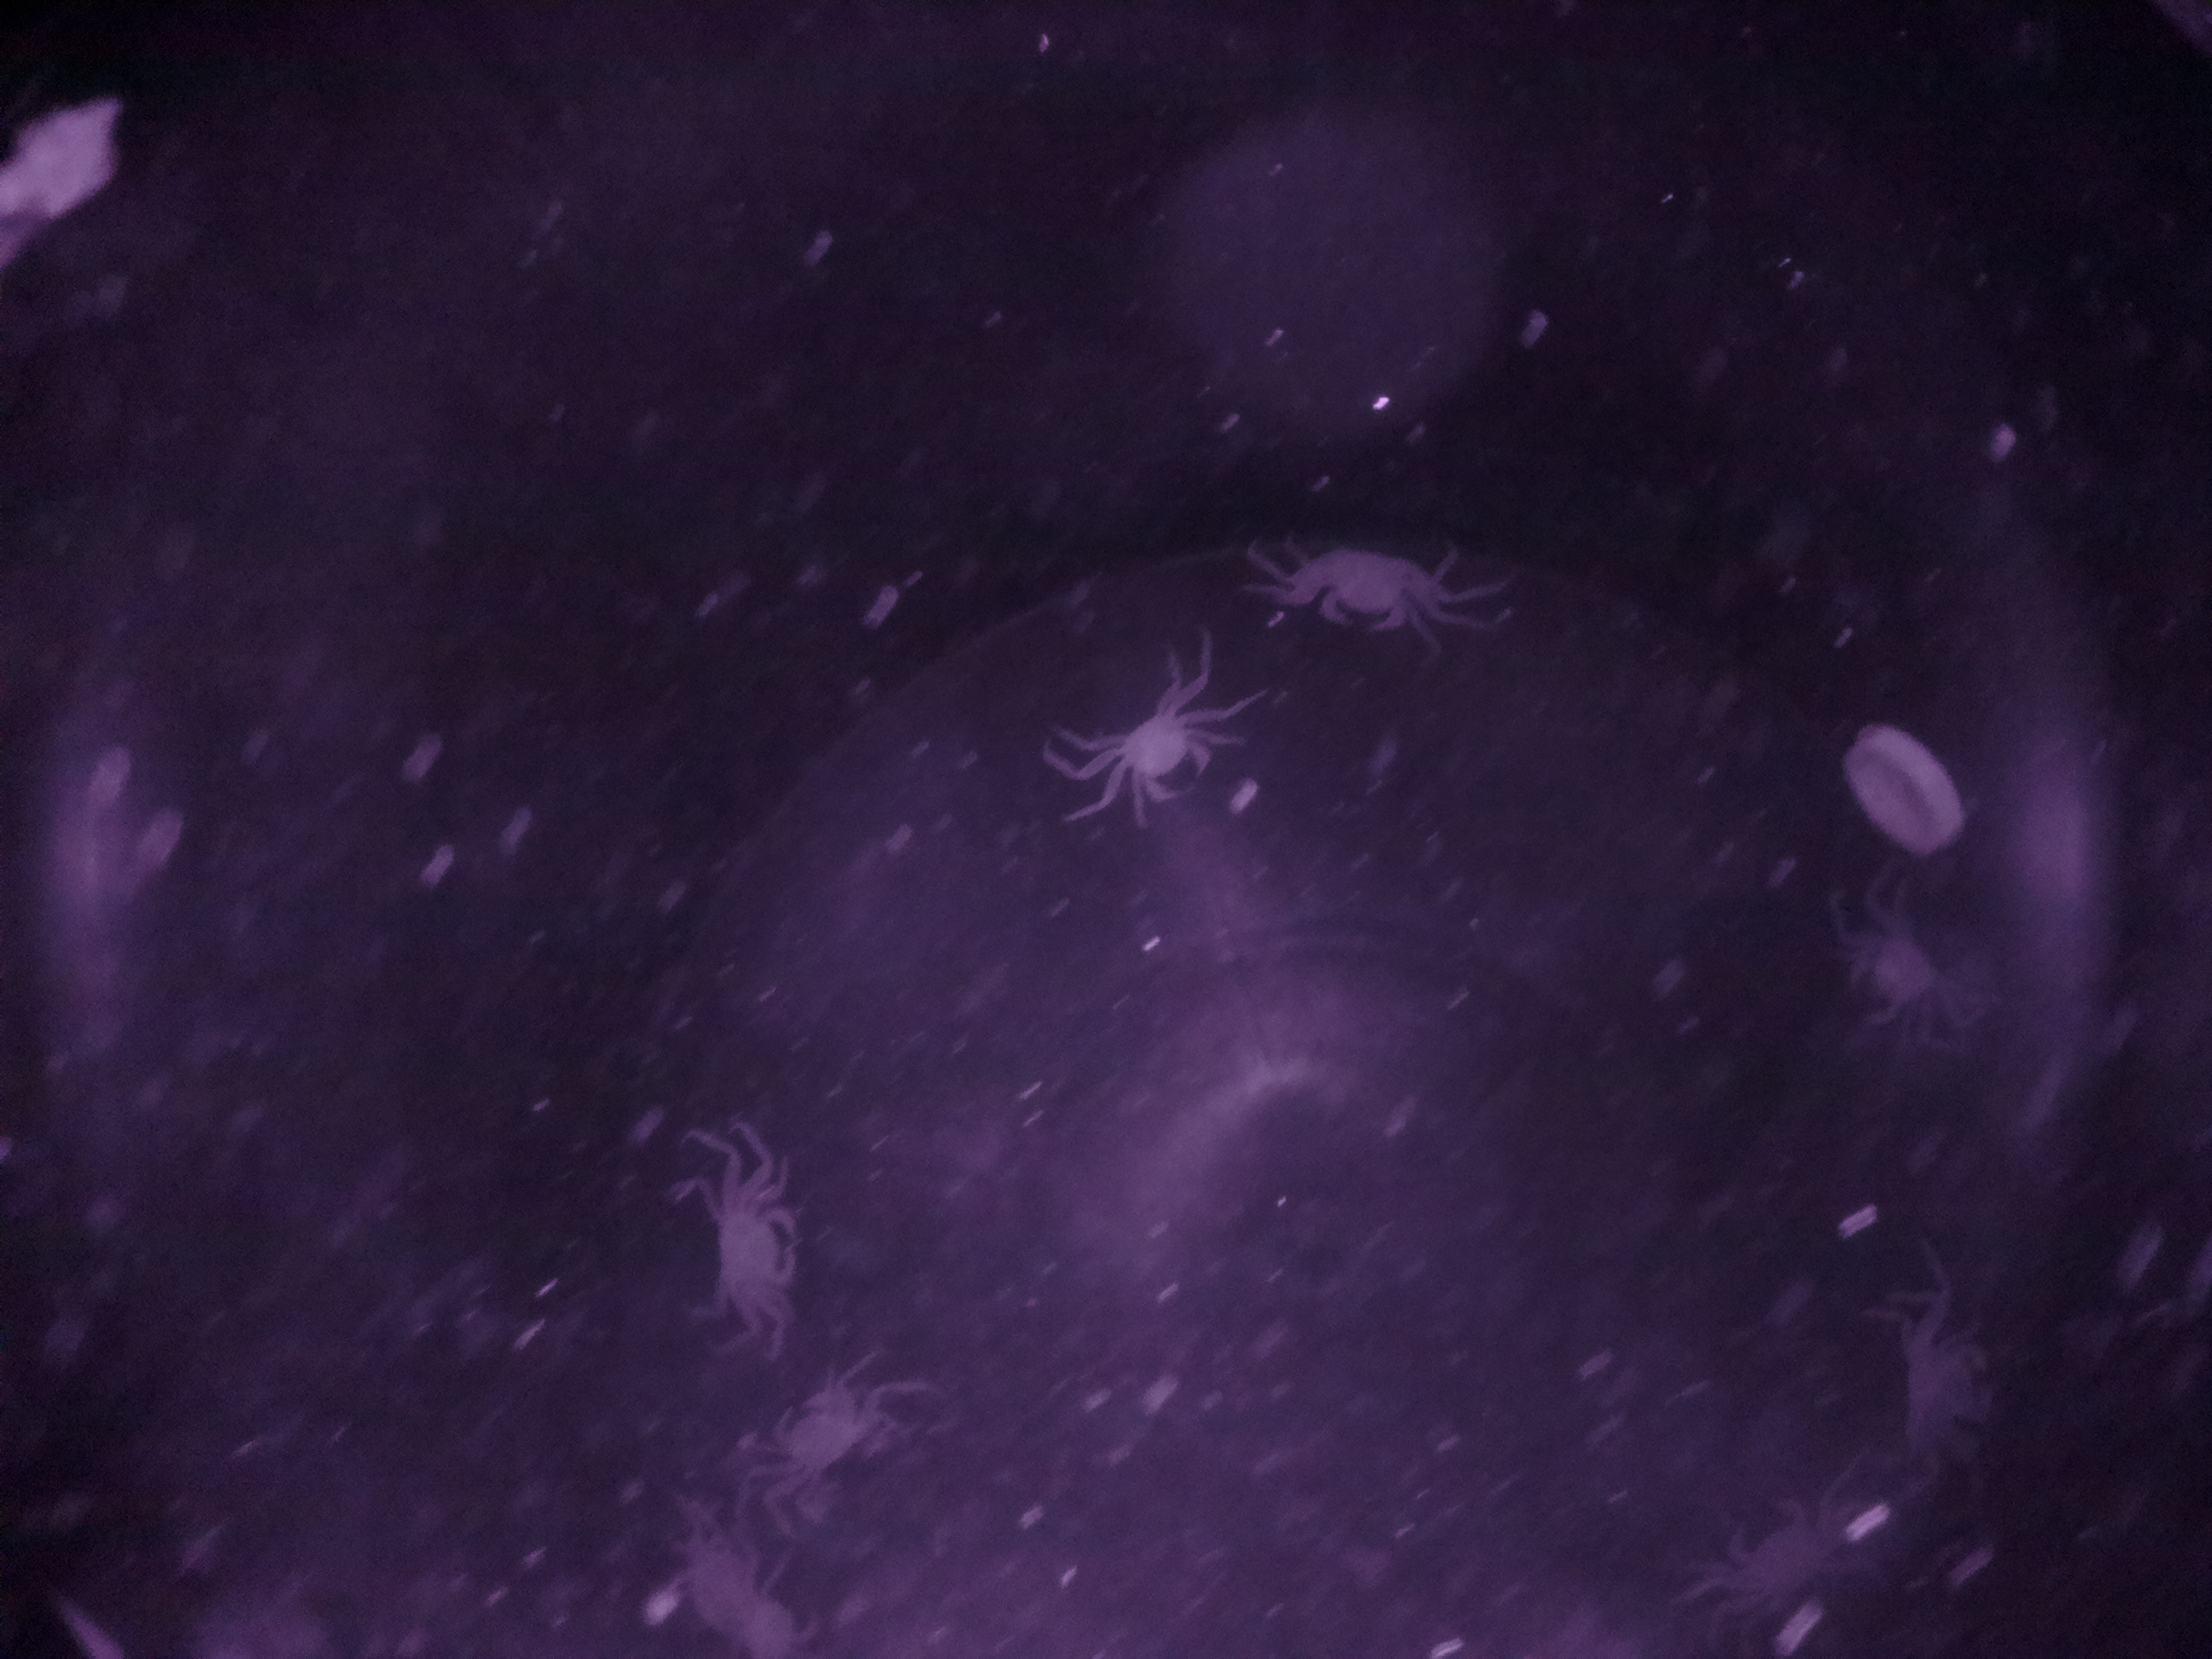Crab: (1285, 538, 1432, 645), (751, 1378, 876, 1497), (702, 1185, 808, 1310), (1120, 708, 1224, 821)
